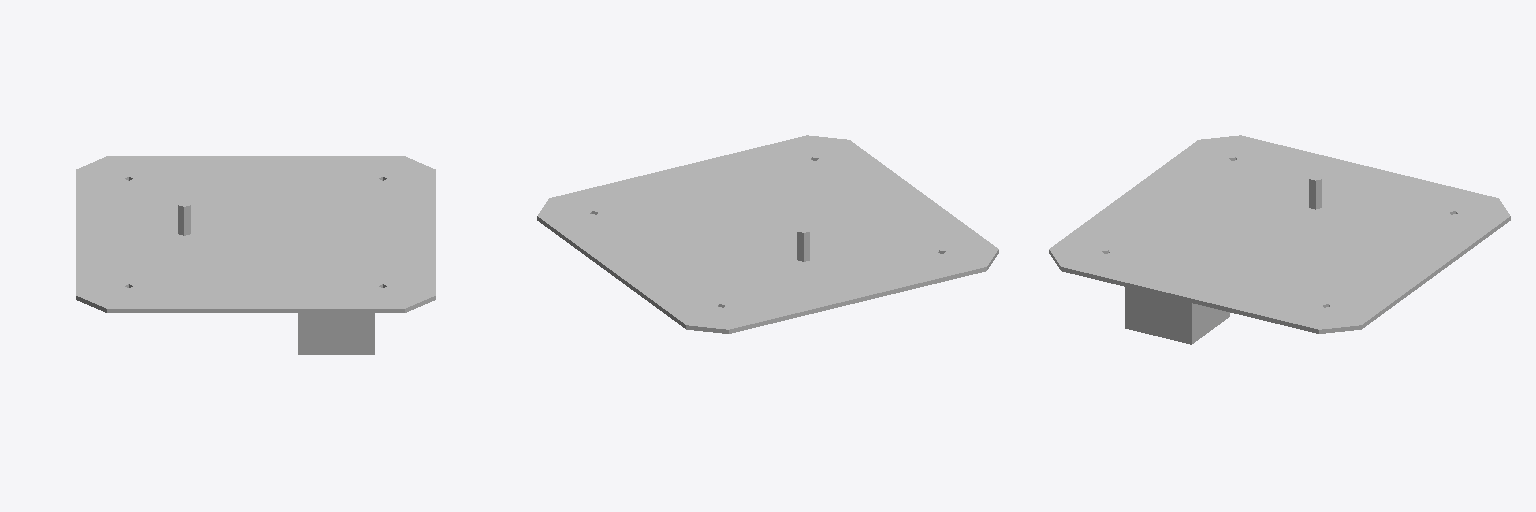
The model's file is platform_2.obj.
3 views of the same model, side by side, from view 1: azimuth 30°, elevation 25°; view 2: azimuth 150°, elevation 25°; view 3: azimuth 270°, elevation 25° (orthographic).
Bounding box in the file's own units: 0.1512 × 0.038 × 0.1516.